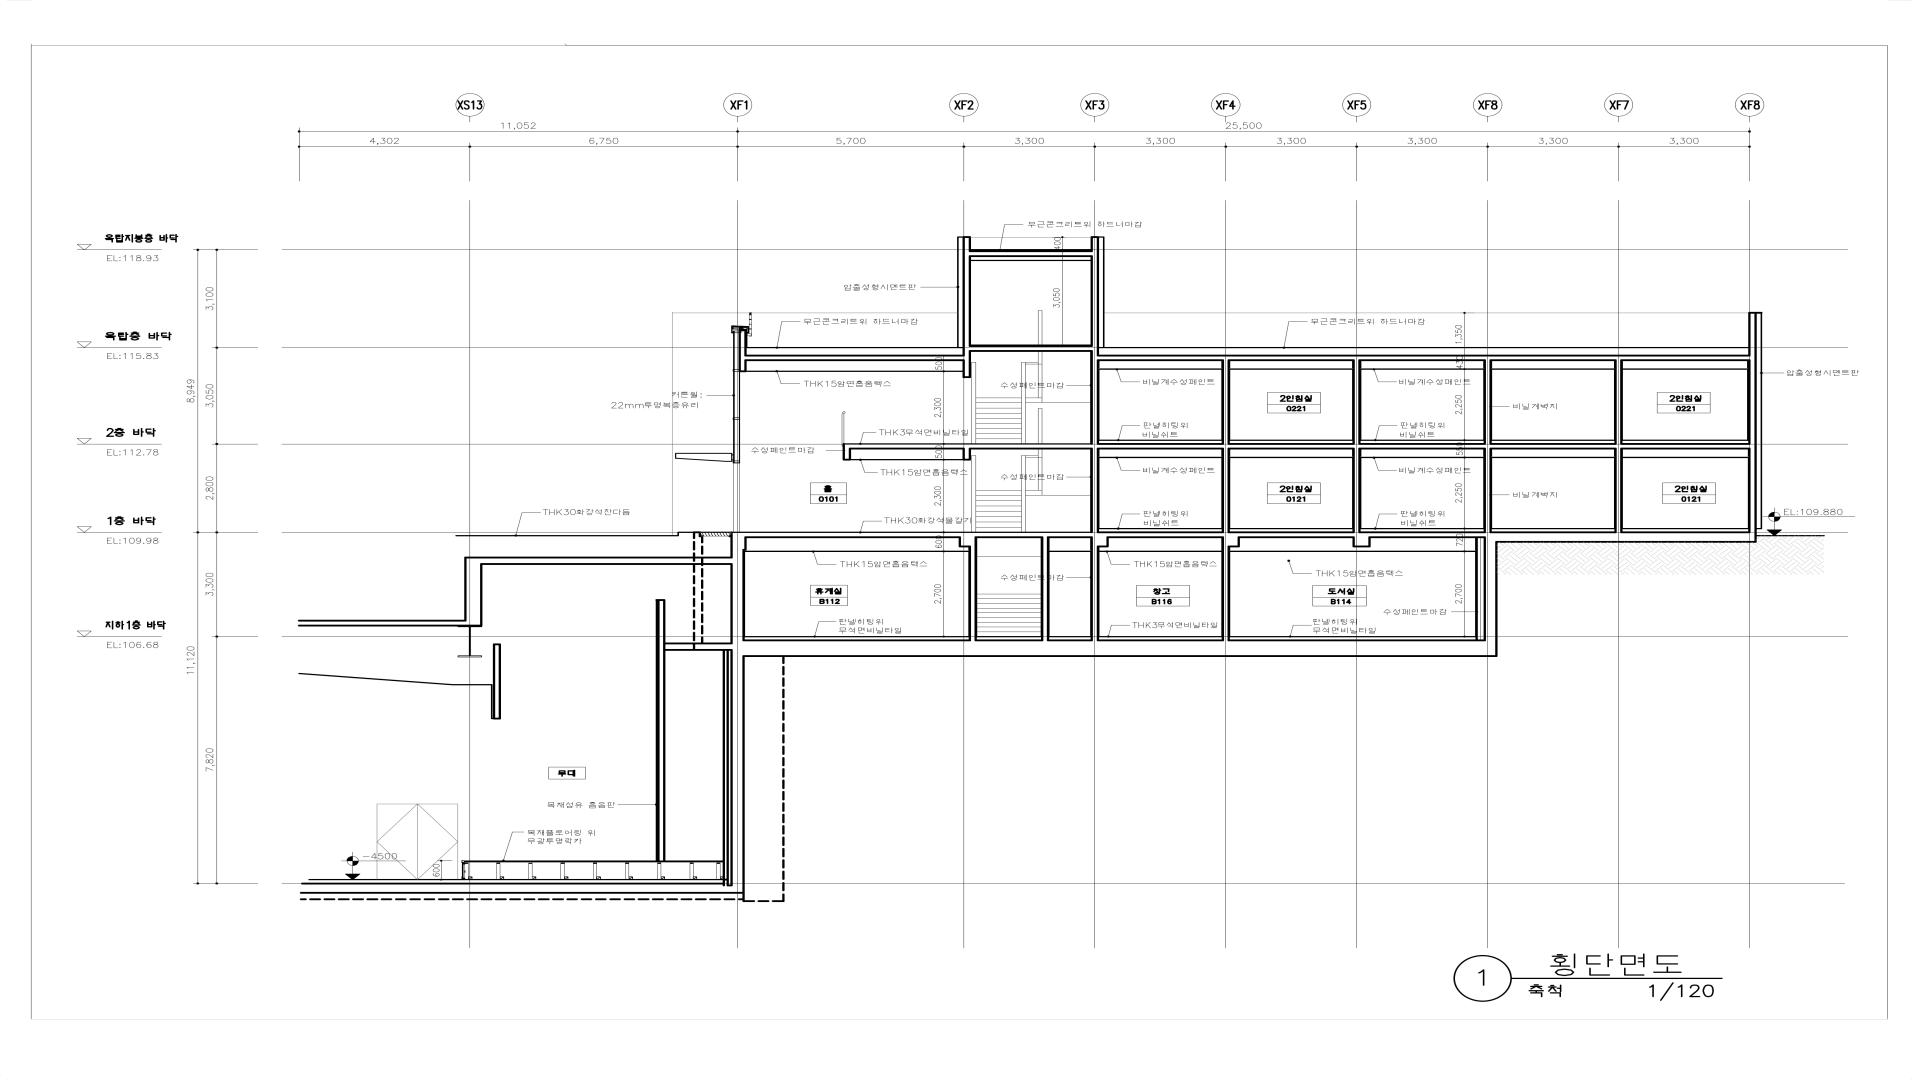door: (733, 463, 740, 532)
wall: (730, 639, 1484, 657), (301, 879, 730, 894), (851, 443, 1748, 450), (1099, 355, 1748, 361), (730, 657, 745, 894), (1483, 531, 1748, 543), (656, 599, 666, 861), (1109, 531, 1483, 538), (483, 556, 730, 565), (1748, 312, 1757, 543), (747, 532, 1090, 538), (1090, 531, 1109, 639), (1221, 538, 1240, 639), (1090, 236, 1099, 443), (730, 532, 747, 639), (959, 538, 977, 639), (1484, 543, 1498, 657), (746, 355, 962, 361), (464, 557, 482, 620), (962, 236, 971, 361), (298, 620, 482, 626), (971, 249, 1090, 257), (971, 344, 1090, 352), (1041, 538, 1050, 639), (1614, 361, 1623, 443), (1483, 361, 1492, 443), (1352, 361, 1361, 443), (1221, 361, 1230, 443), (1352, 450, 1361, 531), (1483, 450, 1492, 531), (1614, 450, 1623, 531), (1221, 450, 1230, 531), (1090, 450, 1099, 531), (665, 642, 730, 651), (738, 329, 746, 372), (1352, 538, 1371, 547), (962, 361, 971, 378), (843, 443, 851, 460), (962, 450, 971, 460)
window: (731, 325, 743, 463)
